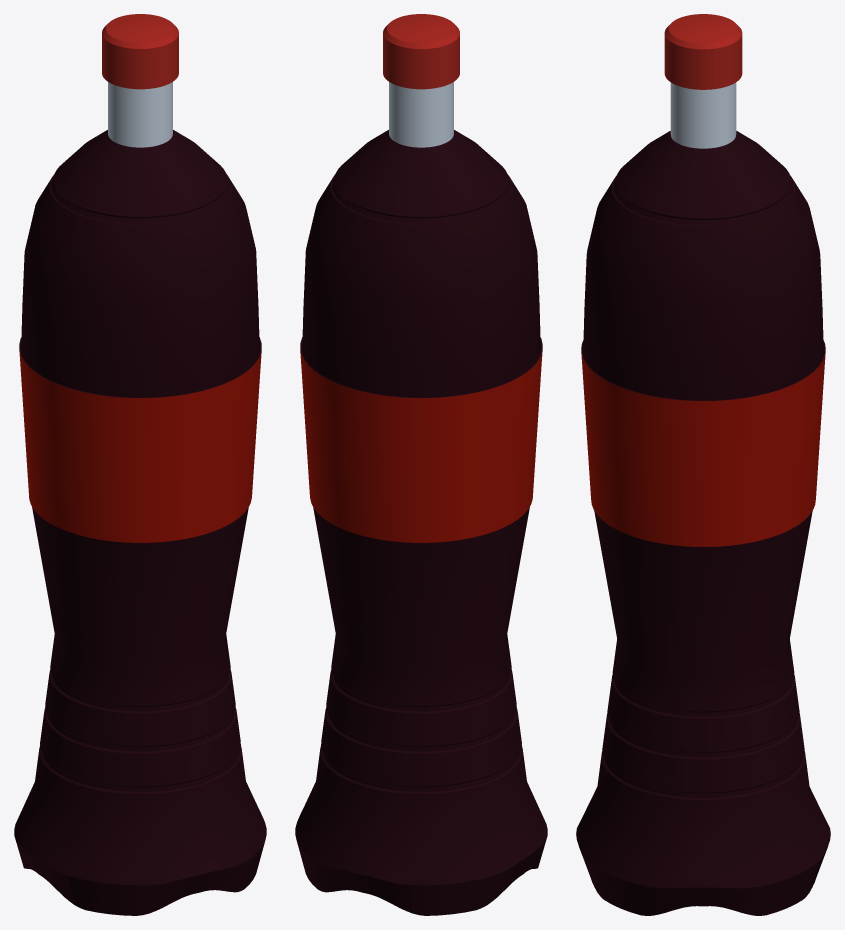
Rendered from madstore_bottle_cola.fbx.
3 renders of one model, left to right at view 1: azimuth 30°, elevation 25°; view 2: azimuth 150°, elevation 25°; view 3: azimuth 270°, elevation 25°, orthographic.
Parts seen in each view (by area): view 1: Cylinder.002; view 2: Cylinder.002; view 3: Cylinder.002.
Boxes of the visible parts, x1,y1,x2,y2 form: Cylinder.002: [14, 14, 266, 915]; Cylinder.002: [295, 14, 547, 915]; Cylinder.002: [576, 14, 830, 915].
Bounding box in the file's own units: 112 × 412 × 112.
